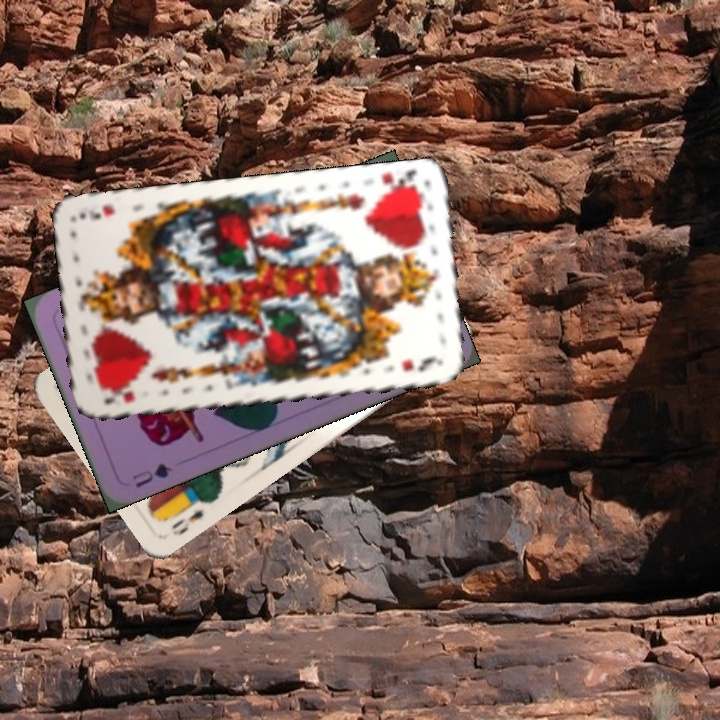EO: (167, 505, 207, 539)
GU: (128, 459, 175, 491)
HK: (373, 166, 421, 197), (100, 382, 138, 407)
